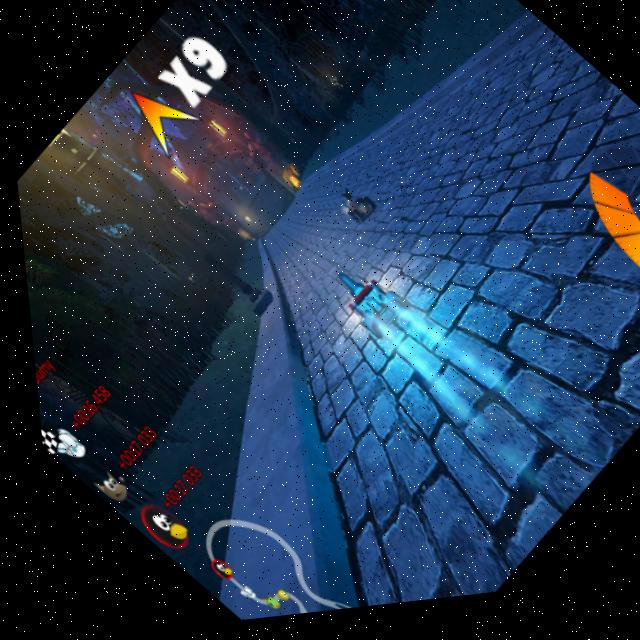enemy_kart: (326, 186, 382, 242)
off_track: (66, 249, 338, 530)
player_kart: (309, 251, 421, 366)
track: (366, 20, 616, 268), (234, 176, 354, 297)
